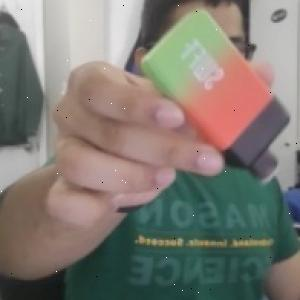Swift-E-Ciggirate: (140, 6, 297, 183)
